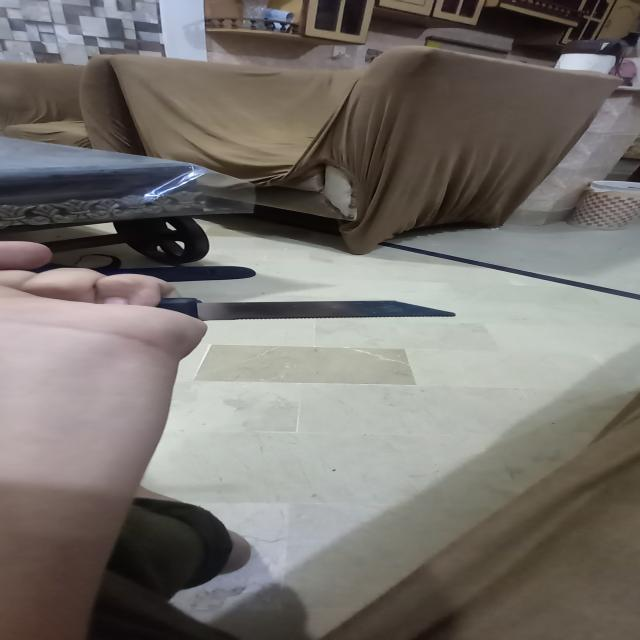weapon: (30, 282, 472, 335)
